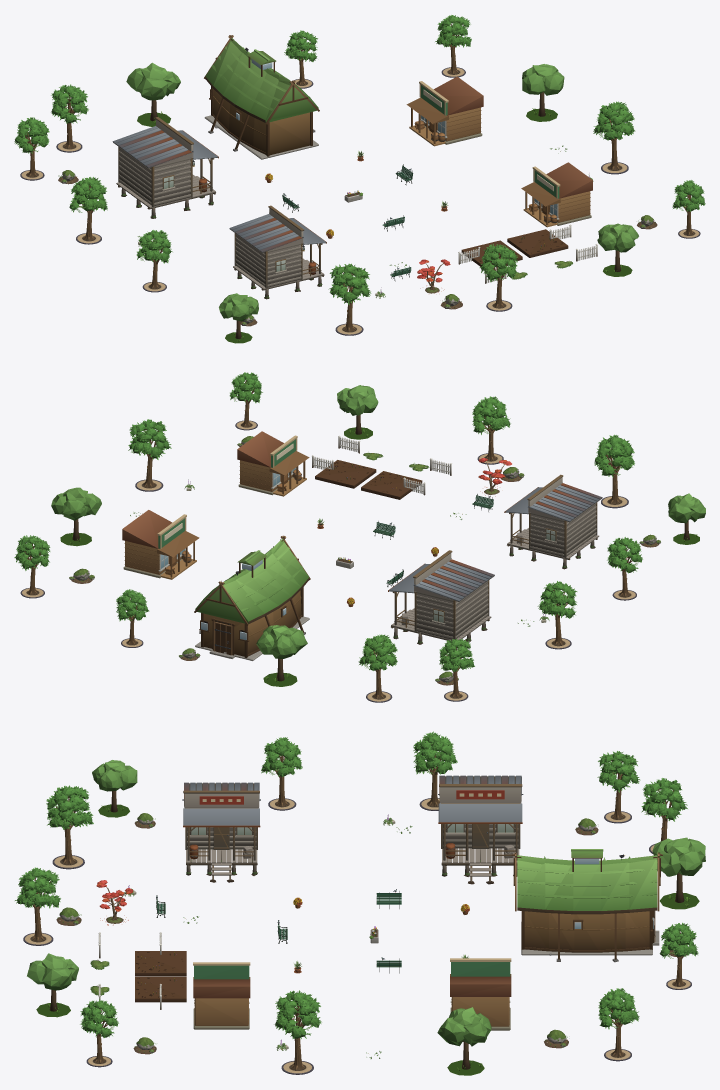
The model's file is HealthClues_-_Cozy_Village_Compact_V2.glb.
The picture shows the model from 3 angles, top to bottom: view 1: azimuth 30°, elevation 25°; view 2: azimuth 150°, elevation 25°; view 3: azimuth 270°, elevation 25°; orthographic projection. The views are drawn at different scales.
Parts seen in each view (by area): view 1: shade_tree_park_01 (×10), general_store (×2), great_hall, bld_general_store_01 (×2), lineside_oak (×4), mulch_bed_tile; view 2: shade_tree_park_01 (×10), general_store (×2), great_hall, bld_general_store_01 (×2), lineside_oak (×4), mulch_bed_tile (×2); view 3: shade_tree_park_01 (×10), general_store (×2), great_hall, lineside_oak (×4), bld_general_store_01 (×2), mulch_bed_tile (×2), momiji_maple_01.
Boxes of the visible parts, left/top/right/bottom form: shade_tree_park_01 (×10): left=14, top=15, right=705, bottom=335; general_store (×2): left=112, top=117, right=326, bottom=299; great_hall: left=204, top=35, right=319, bottom=159; bld_general_store_01 (×2): left=406, top=76, right=592, bottom=227; lineside_oak (×4): left=126, top=62, right=638, bottom=343; mulch_bed_tile: left=507, top=229, right=568, bottom=257; shade_tree_park_01 (×10): left=14, top=372, right=642, bottom=702; general_store (×2): left=388, top=474, right=602, bottom=644; great_hall: left=194, top=535, right=310, bottom=660; bld_general_store_01 (×2): left=122, top=431, right=309, bottom=579; lineside_oak (×4): left=51, top=385, right=705, bottom=686; mulch_bed_tile (×2): left=315, top=460, right=422, bottom=499; shade_tree_park_01 (×10): left=15, top=731, right=698, bottom=1074; general_store (×2): left=182, top=775, right=523, bottom=884; great_hall: left=511, top=849, right=662, bottom=962; lineside_oak (×4): left=27, top=760, right=705, bottom=1075; bld_general_store_01 (×2): left=193, top=958, right=511, bottom=1030; mulch_bed_tile (×2): left=135, top=951, right=186, bottom=1002; momiji_maple_01: left=96, top=880, right=133, bottom=925.
Size of the model in its own units: 44.1 by 6.53 by 45.44.
